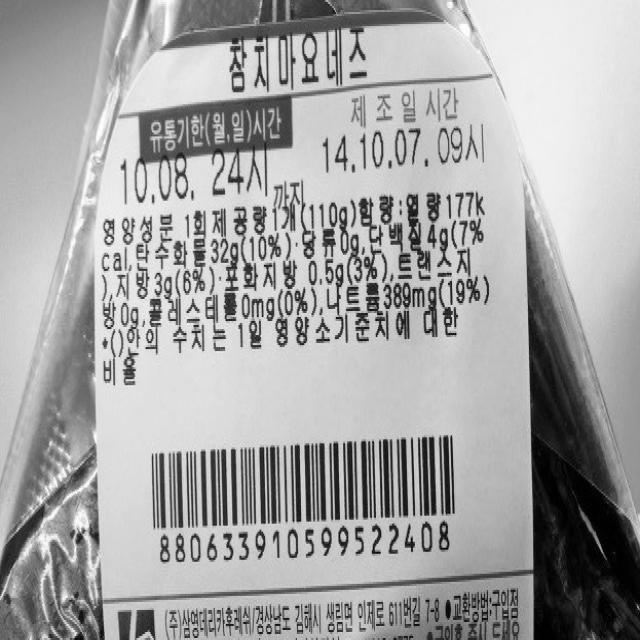Nutrition Label: (94, 180, 500, 397)
